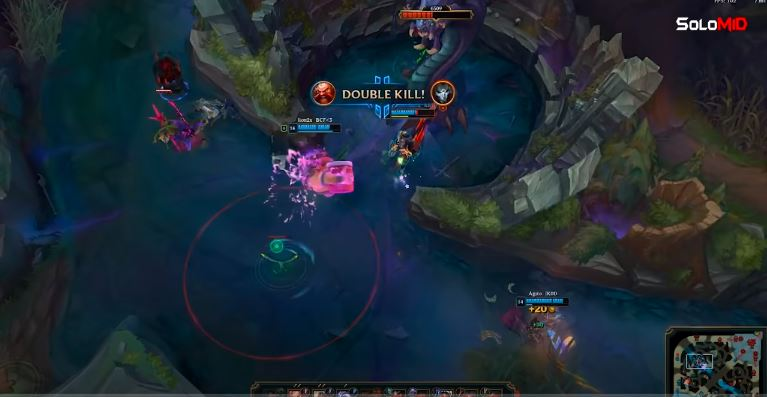bar: (285, 119, 347, 136), (375, 105, 439, 120), (513, 294, 573, 309)
